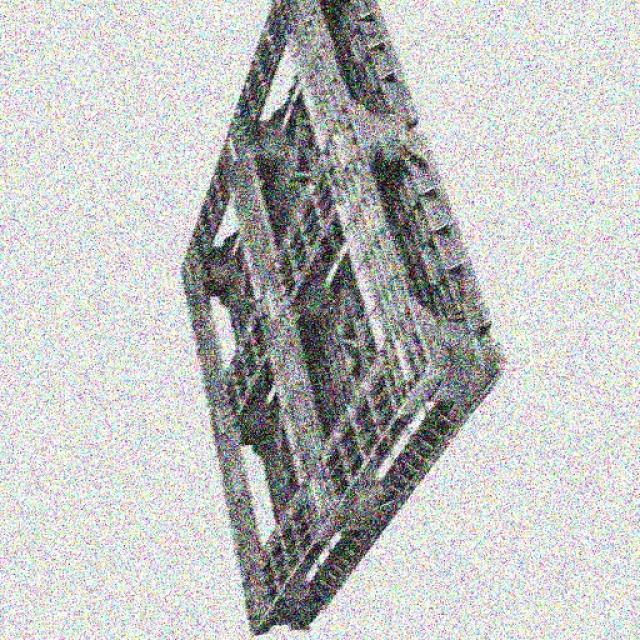non-igps: (179, 1, 509, 639)
